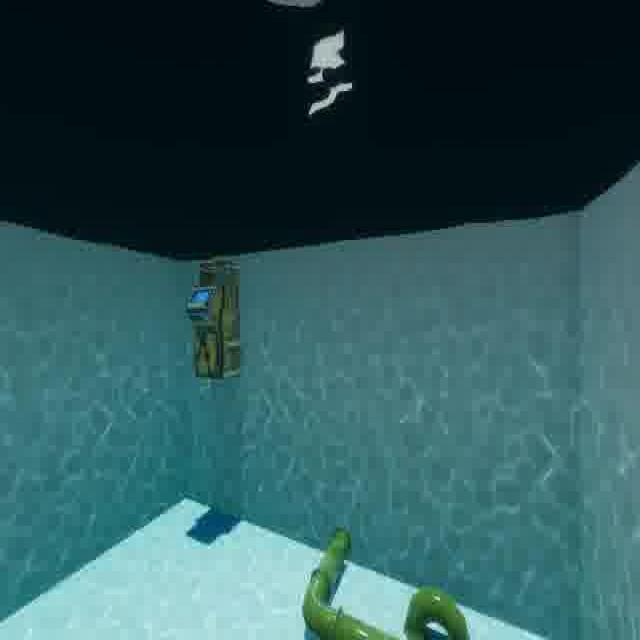Control Panel: (181, 249, 245, 386)
Pipe: (300, 517, 476, 640)
